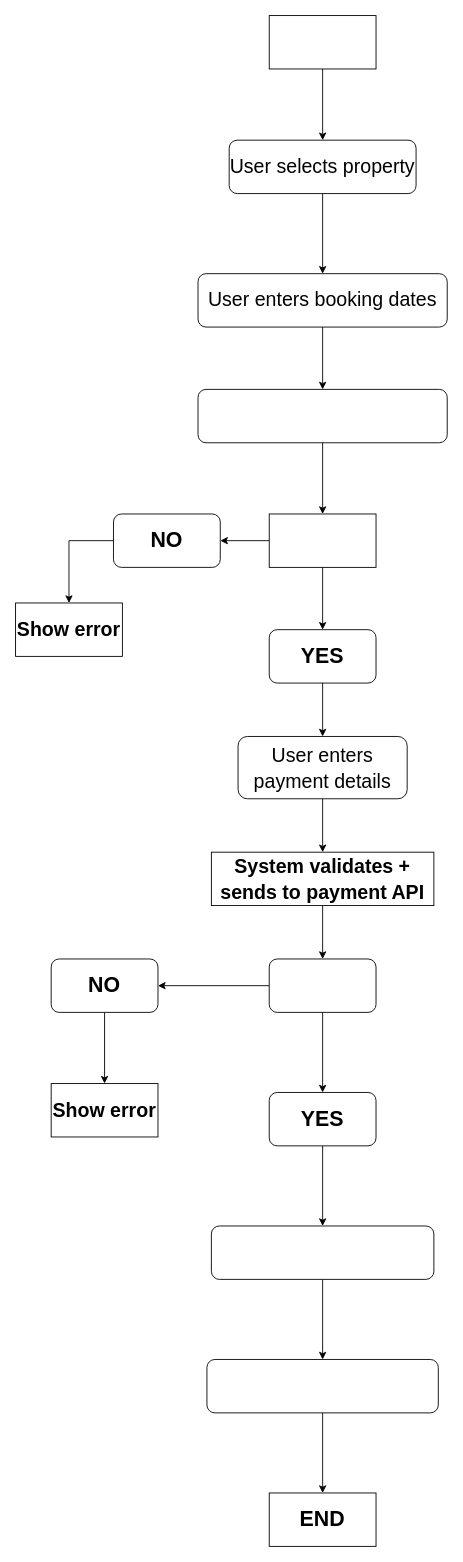
Image size: 463x1562. Some labels were removed from this diagram. The centre of each missing label's shape, as x and y in pixels:
Create booking record: the point at 322,1252
If Available?: the point at 322,540
Payment Success?: the point at 322,985
Send confirmation email: the point at 322,1386
START: the point at 322,42
System checks availability: the point at 322,415
